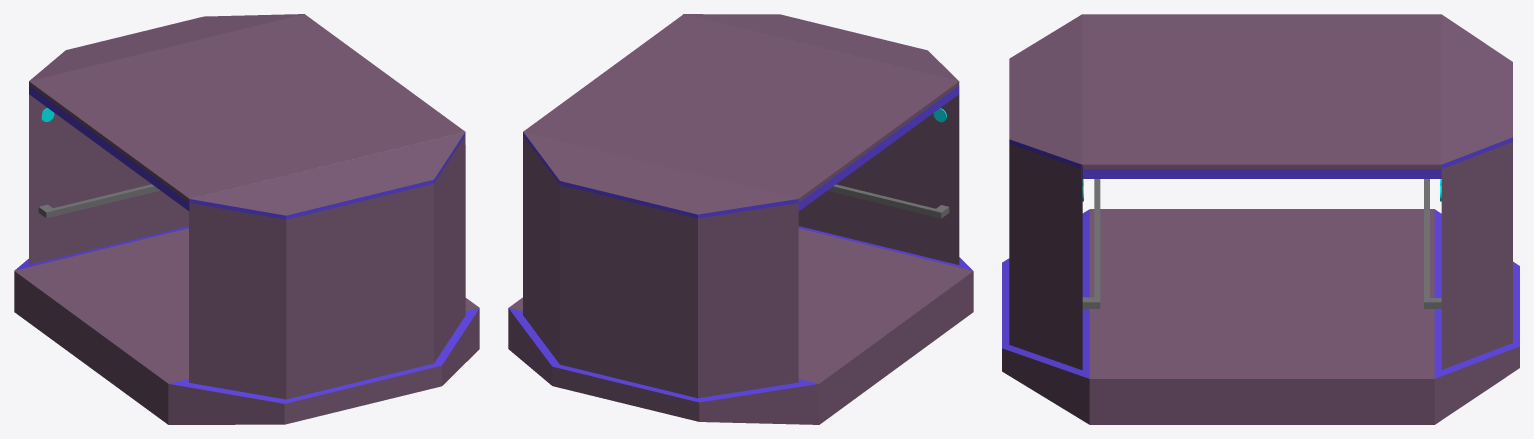
Rendered from chast_kosmo_corabel.glb.
3 views of the same model, side by side, from view 1: azimuth 30°, elevation 25°; view 2: azimuth 150°, elevation 25°; view 3: azimuth 270°, elevation 25° (orthographic). The views are drawn at different scales.
Visible parts, largest first — view 1: coredor, opora1; view 2: coredor, opora2; view 3: coredor, opora2, opora1.
Boxes of the visible parts, x1,y1,x2,y2 form: coredor: (14,14,479,424); opora1: (38,184,160,218); coredor: (508,14,973,424); opora2: (827,184,949,218); coredor: (1002,14,1519,424); opora2: (1082,179,1100,308); opora1: (1424,179,1441,308).
Bounding box in the file's own units: 6.67 × 4.59 × 8.6.
